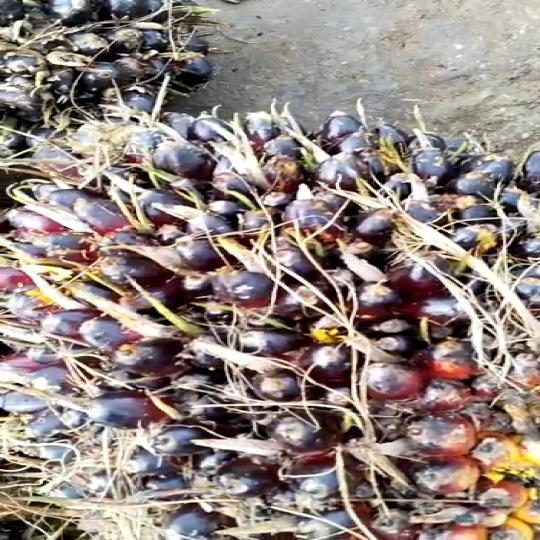mentah: (0, 103, 540, 540)
